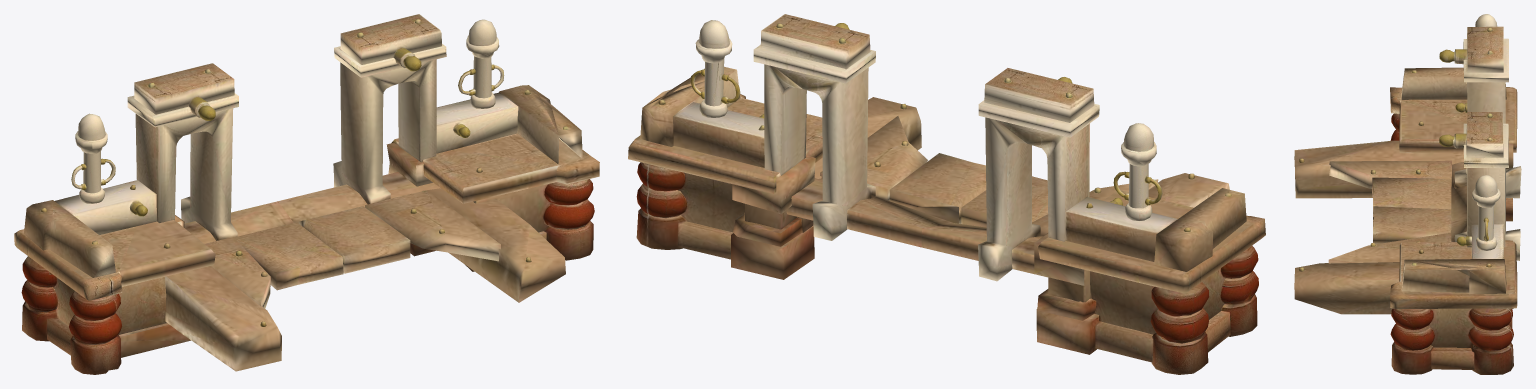
The model's file is causeway-span.glb.
The picture shows the model from 3 angles, left to right: view 1: azimuth 30°, elevation 25°; view 2: azimuth 150°, elevation 25°; view 3: azimuth 270°, elevation 25°; orthographic projection. The views are drawn at different scales.
Parts seen in each view (by area): view 1: causeway-span; view 2: causeway-span; view 3: causeway-span.
Boxes of the visible parts, <box> form: causeway-span: <box>14,14,599,374</box>; causeway-span: <box>628,14,1265,374</box>; causeway-span: <box>1294,14,1521,374</box>.
Bounding box in the file's own units: 8 × 3.34 × 3.66.
1 material, 1 textured.
